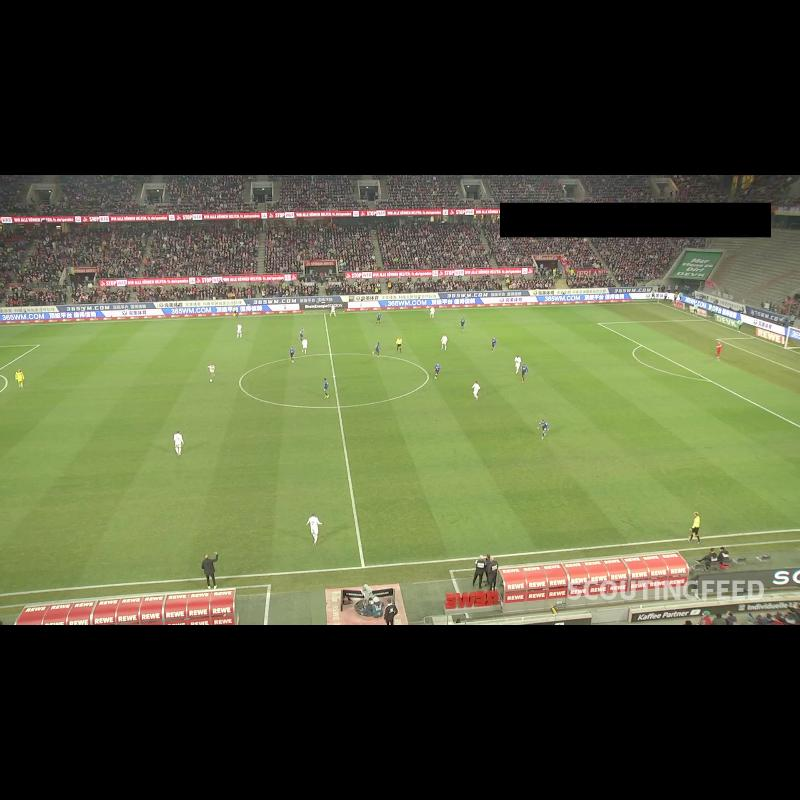cross_recipient_zone: (598, 319, 800, 427), (0, 345, 38, 369)
crossing_player_zone: (690, 437, 800, 530), (495, 303, 705, 326), (0, 320, 150, 346)
pitch: (0, 303, 800, 596)
